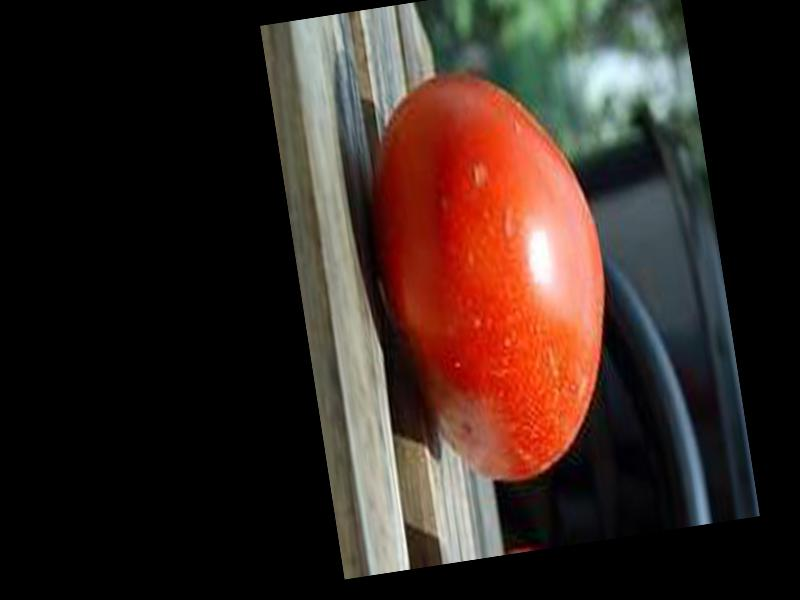Tomato: (355, 54, 633, 495)
